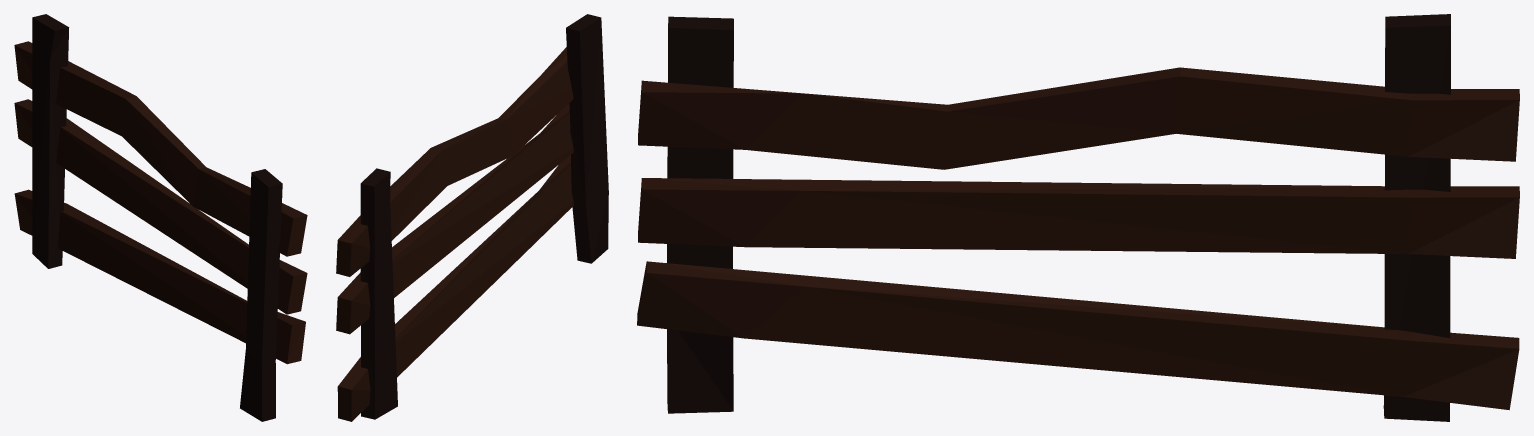
The model's file is zabor a.FBX.
3 renders of one model, left to right at view 1: azimuth 30°, elevation 25°; view 2: azimuth 150°, elevation 25°; view 3: azimuth 270°, elevation 25°, orthographic. The views are drawn at different scales.
Parts seen in each view (by area): view 1: zabor a; view 2: zabor a; view 3: zabor a.
Boxes of the visible parts, bbox=[...] form: zabor a: bbox=[14, 14, 307, 421]; zabor a: bbox=[336, 14, 608, 421]; zabor a: bbox=[637, 14, 1519, 421].
Bounding box in the file's own units: 0.2811 × 3.16 × 1.57.
